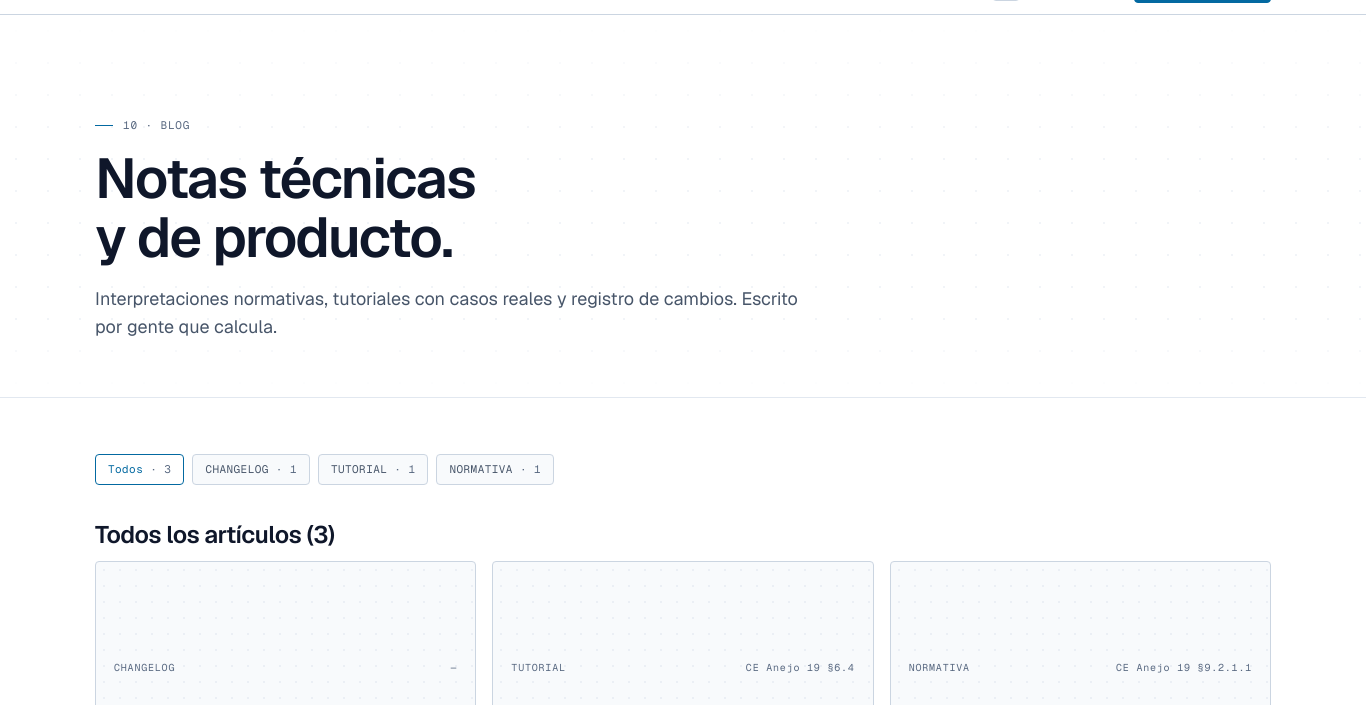
Scenario: Blog listing › the category filter narrows the list
Click the button "CHANGELOG · 1": (251, 469) left=192, top=454, right=310, bottom=485
(page scrolled)
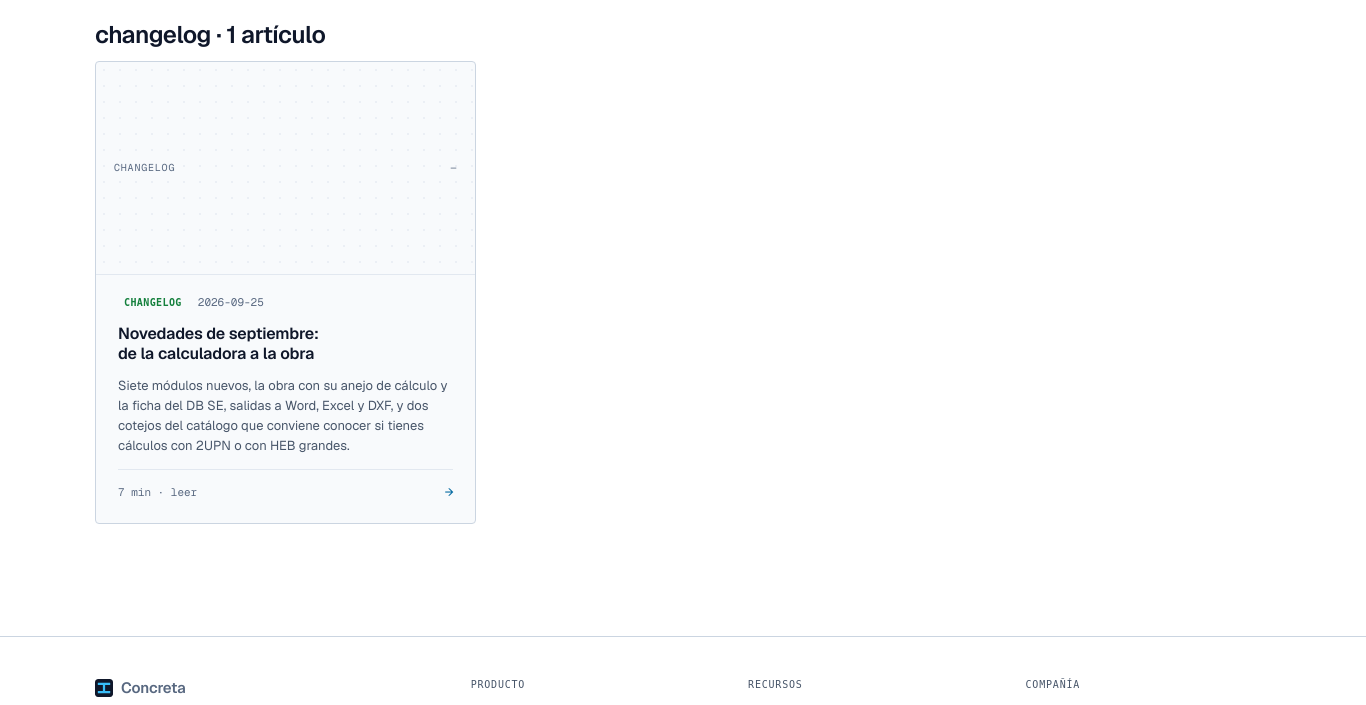
Expected: the heading "Novedades de septiembre: de la calculadora a la obra" is shown, left=118, top=323, right=319, bottom=364
Now the heading "changelog · 1 artículo" is shown, box left=95, top=19, right=326, bottom=50
